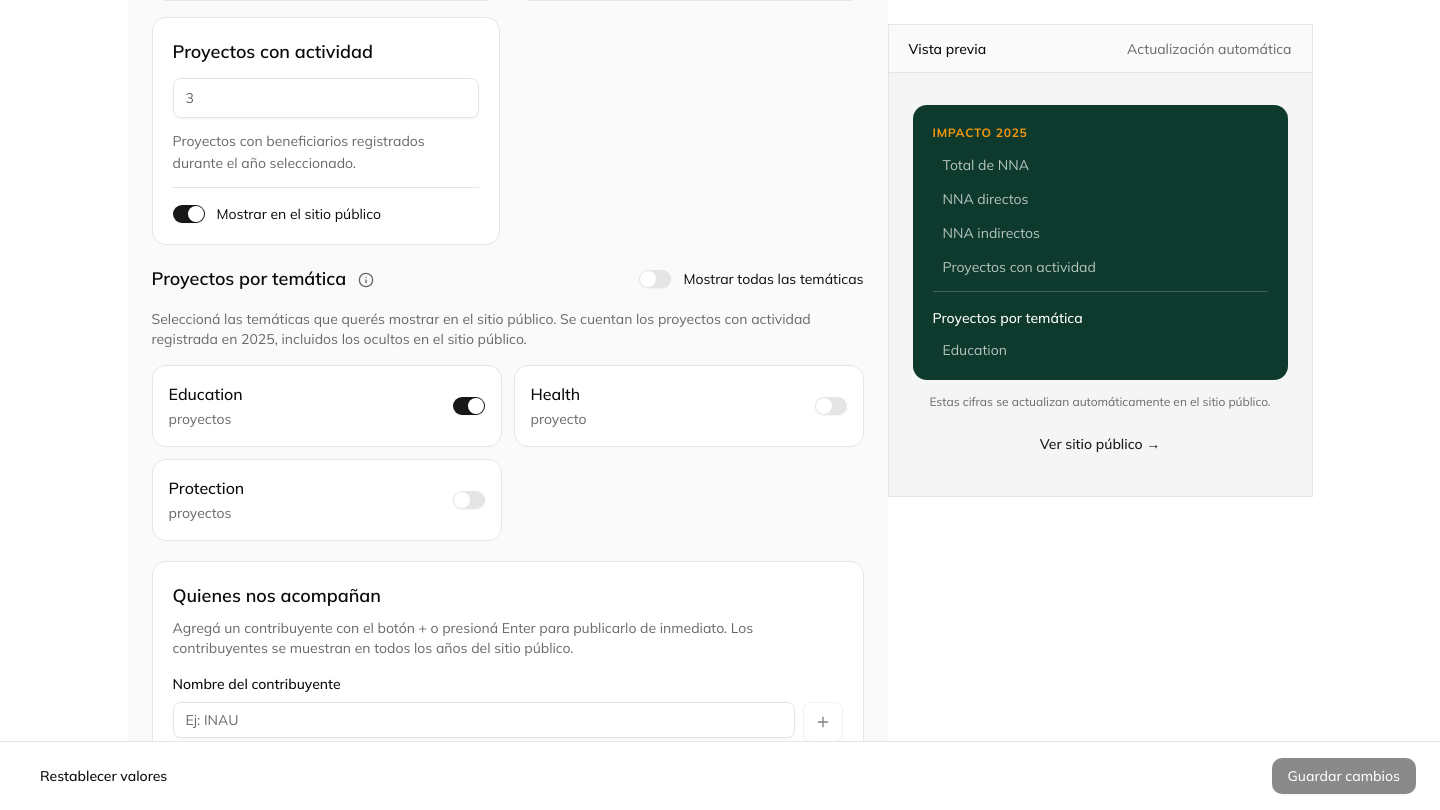
Test: shows pending changes only while the selection differs from the saved settings
The width and height of the screenshot is (1440, 810).
(page scrolled)
Expected: the button "Guardar cambios" is disabled, [1272,758,1416,794]
Expected: the text "Cambios sin guardar" is not shown
Click the switch named "Health" at (830, 406), box [814,397,846,415]
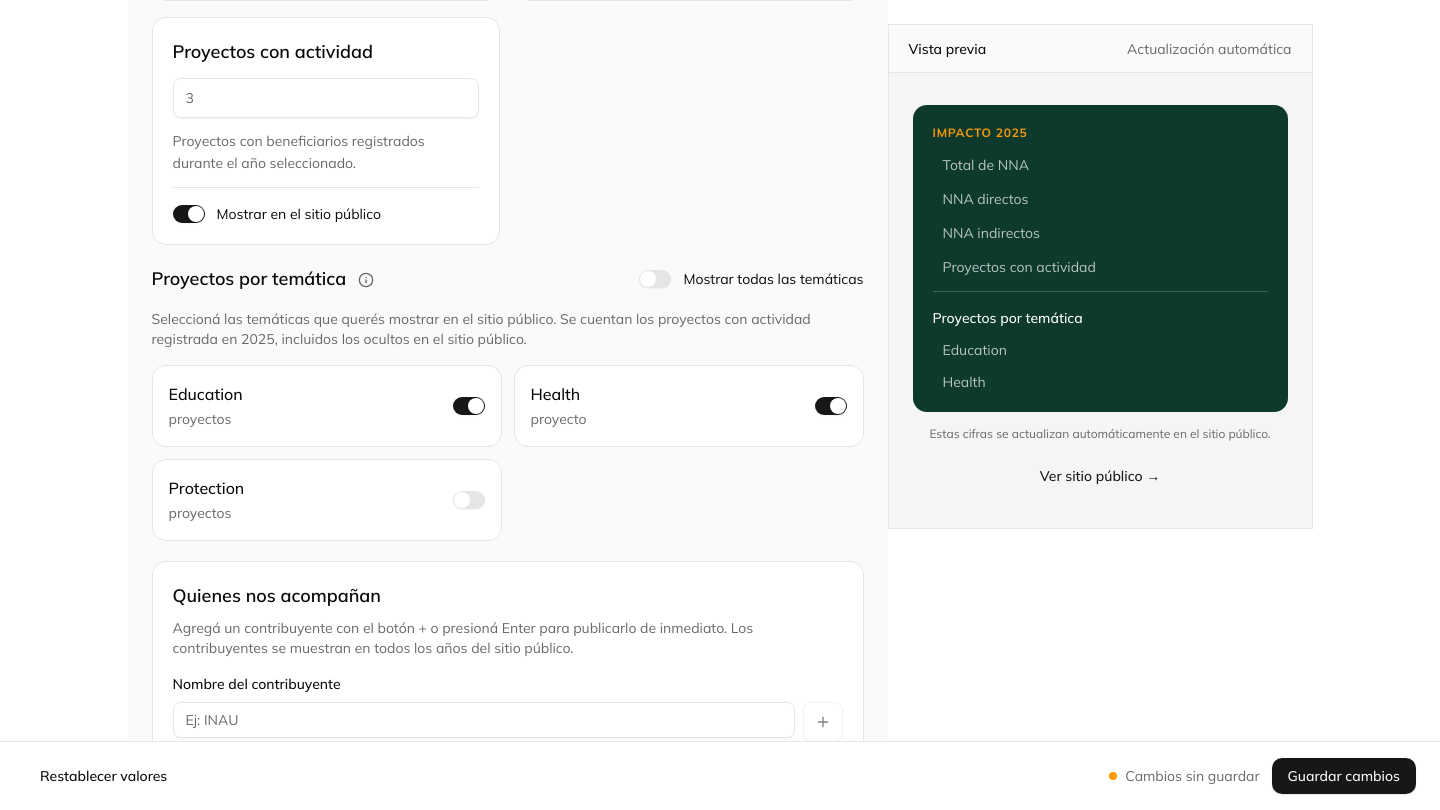
Expected: the text "Cambios sin guardar" is shown, [1109,766,1260,786]
Expected: the button "Guardar cambios" is enabled, [1272,758,1416,794]
Click the switch named "Health" at (830, 406), box [814,397,846,415]
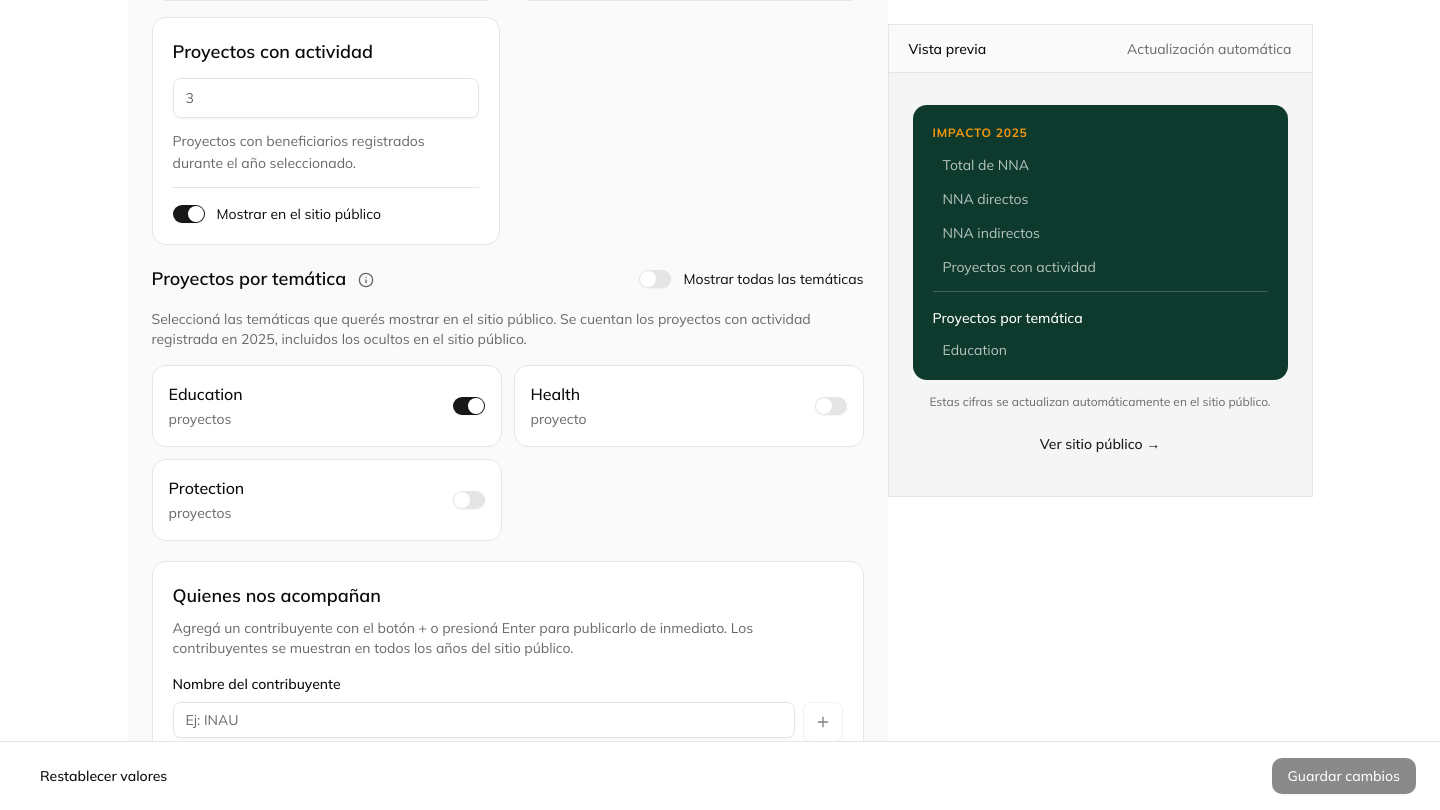
Expected: the text "Cambios sin guardar" is gone
Expected: the button "Guardar cambios" is disabled, [1272,758,1416,794]
